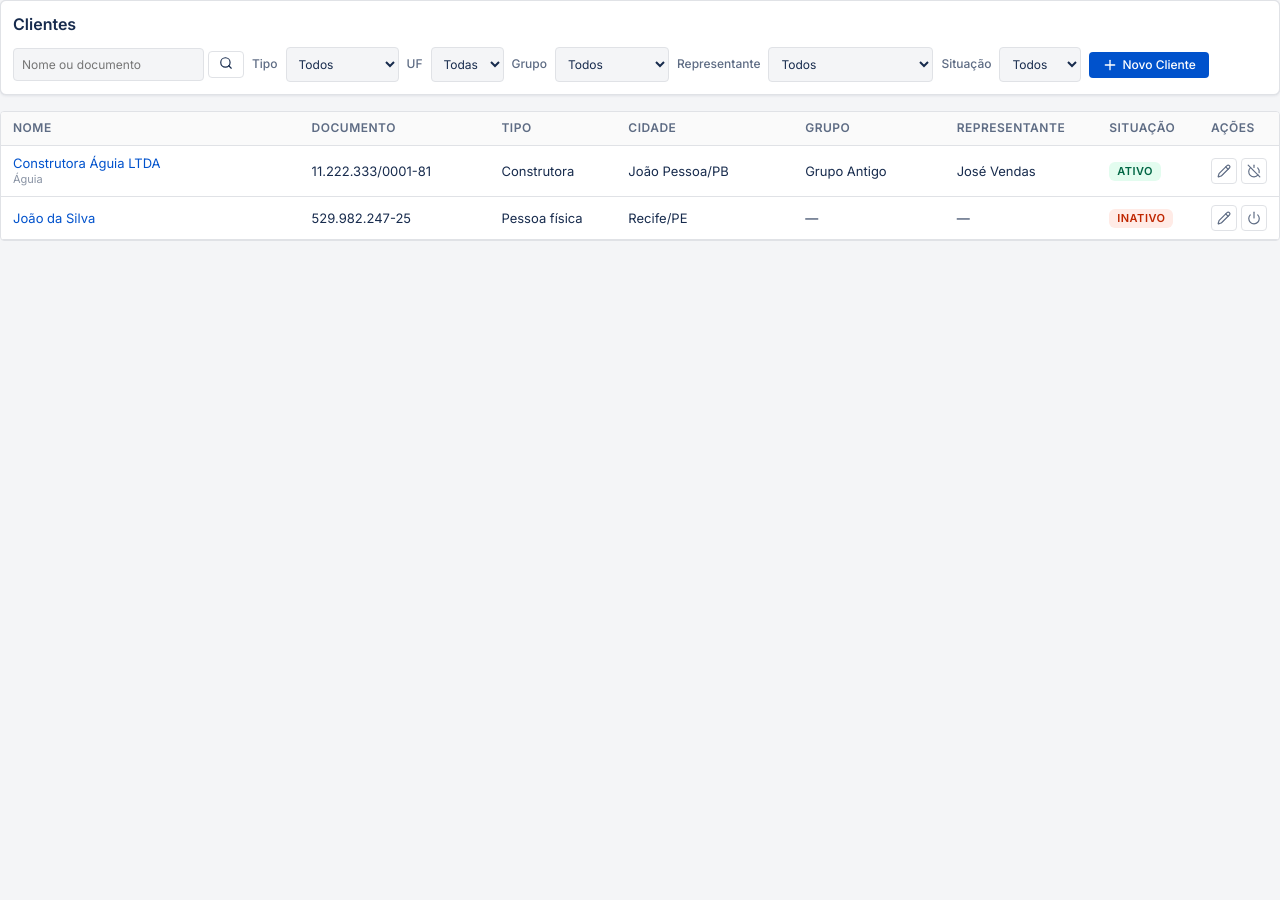
Test: Clientes › exige o documento na criação
Check: the link "Construtora Águia LTDA" is shown, box 13,155 -> 161,171
Click the button "Novo Cliente": (1149,65) 1090,52 -> 1209,78
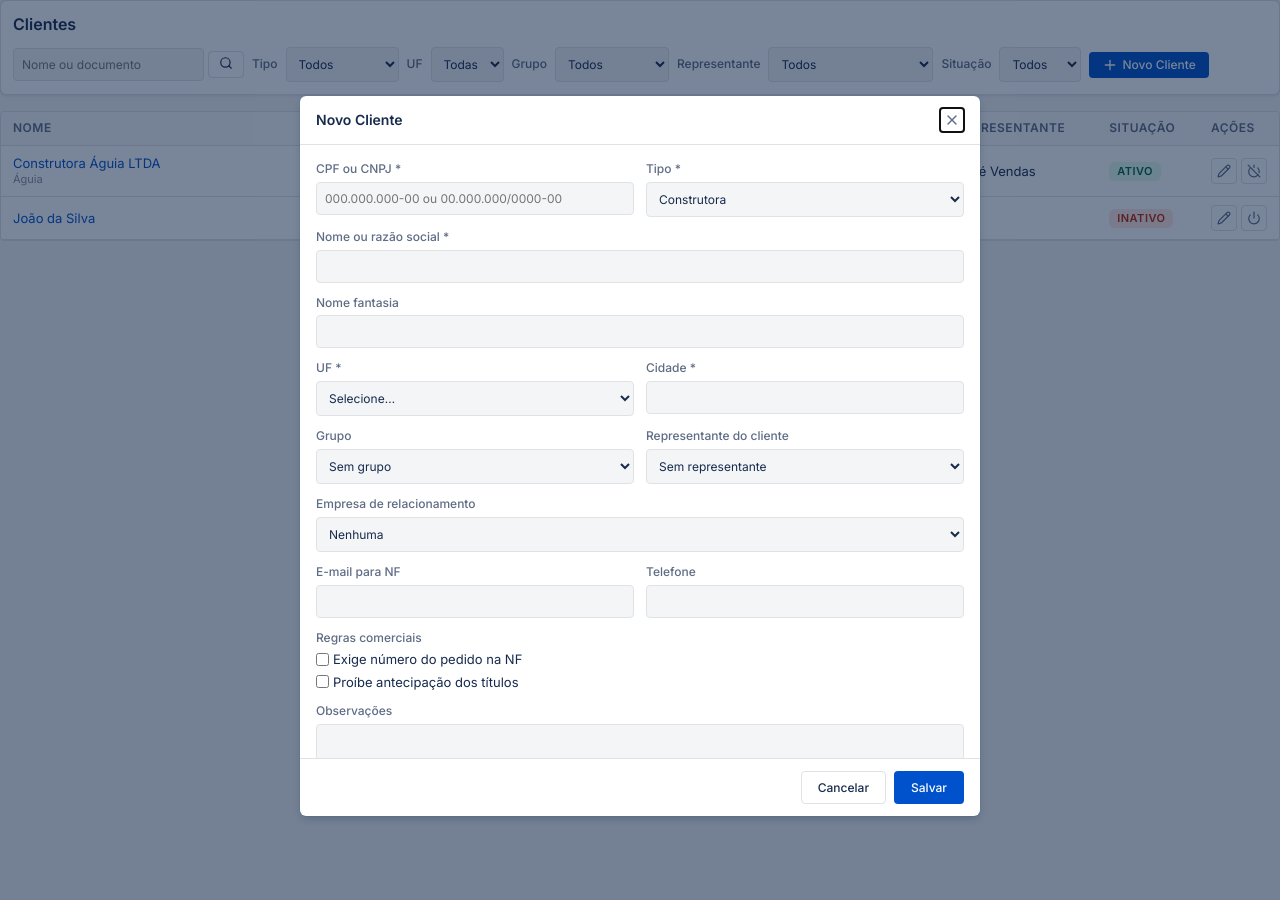
Click the button "Salvar": (929,788) 894,771 -> 964,804
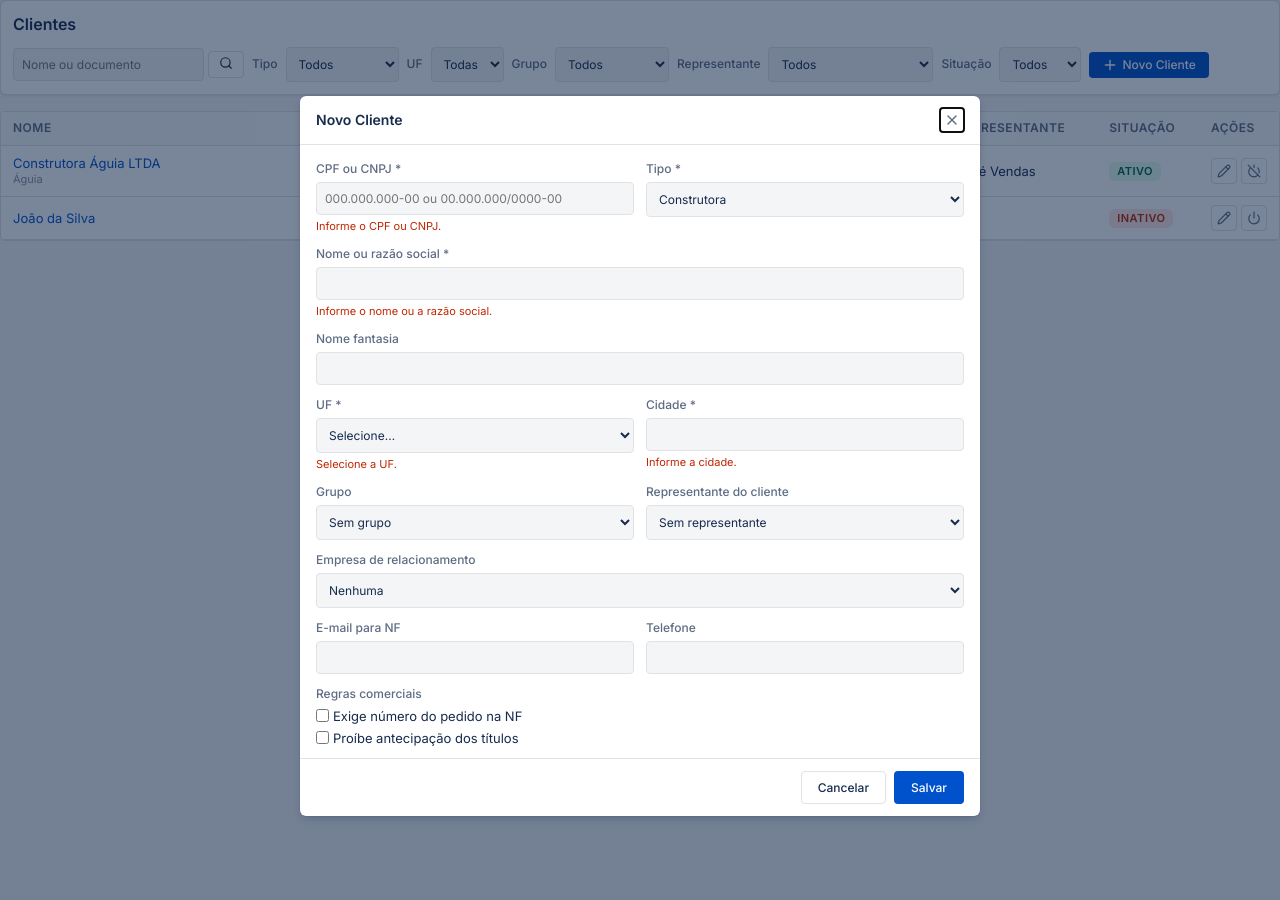
Check: the text "Informe o CPF ou CNPJ." is shown, box 316,219 -> 441,233
